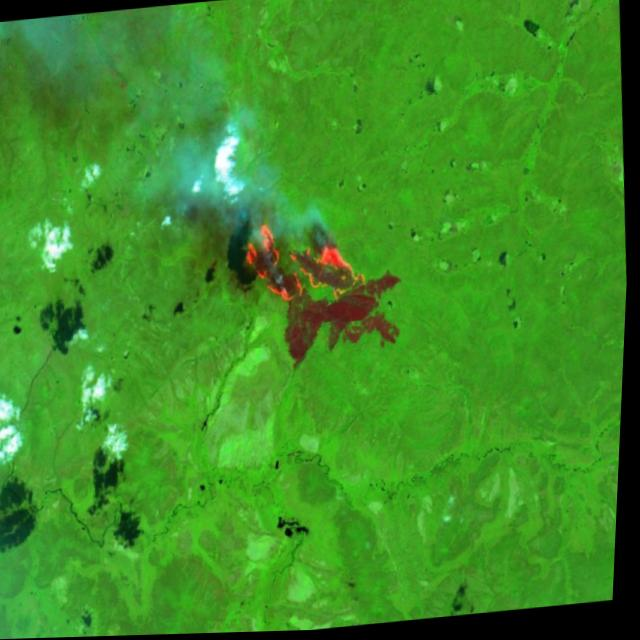fire: (237, 201, 374, 317)
